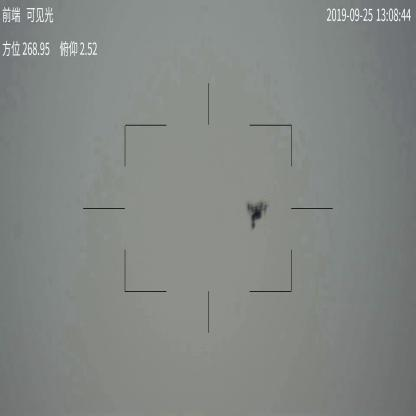uav: (245, 199, 268, 229)
